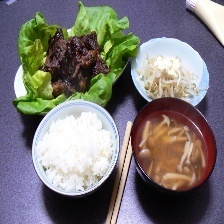rice: (34, 110, 114, 193)
